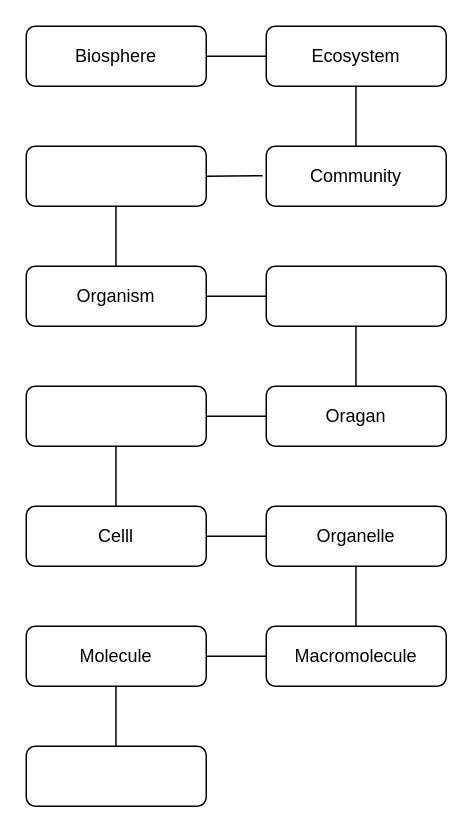
Some shapes in this 473 by 833 pixel diagram are drawn without their labels. The shapes that lost their labels are listed below. From the top down, each one's box as (x1, y1, x2, y2) in pixels, then its label:
(25, 145, 206, 206): Population
(265, 265, 446, 326): System
(25, 385, 206, 446): Tissue
(25, 745, 206, 806): Atom
